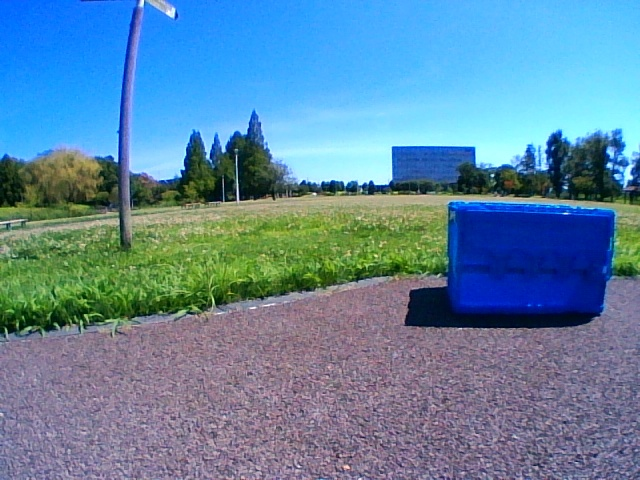blue_box: (449, 201, 616, 315)
